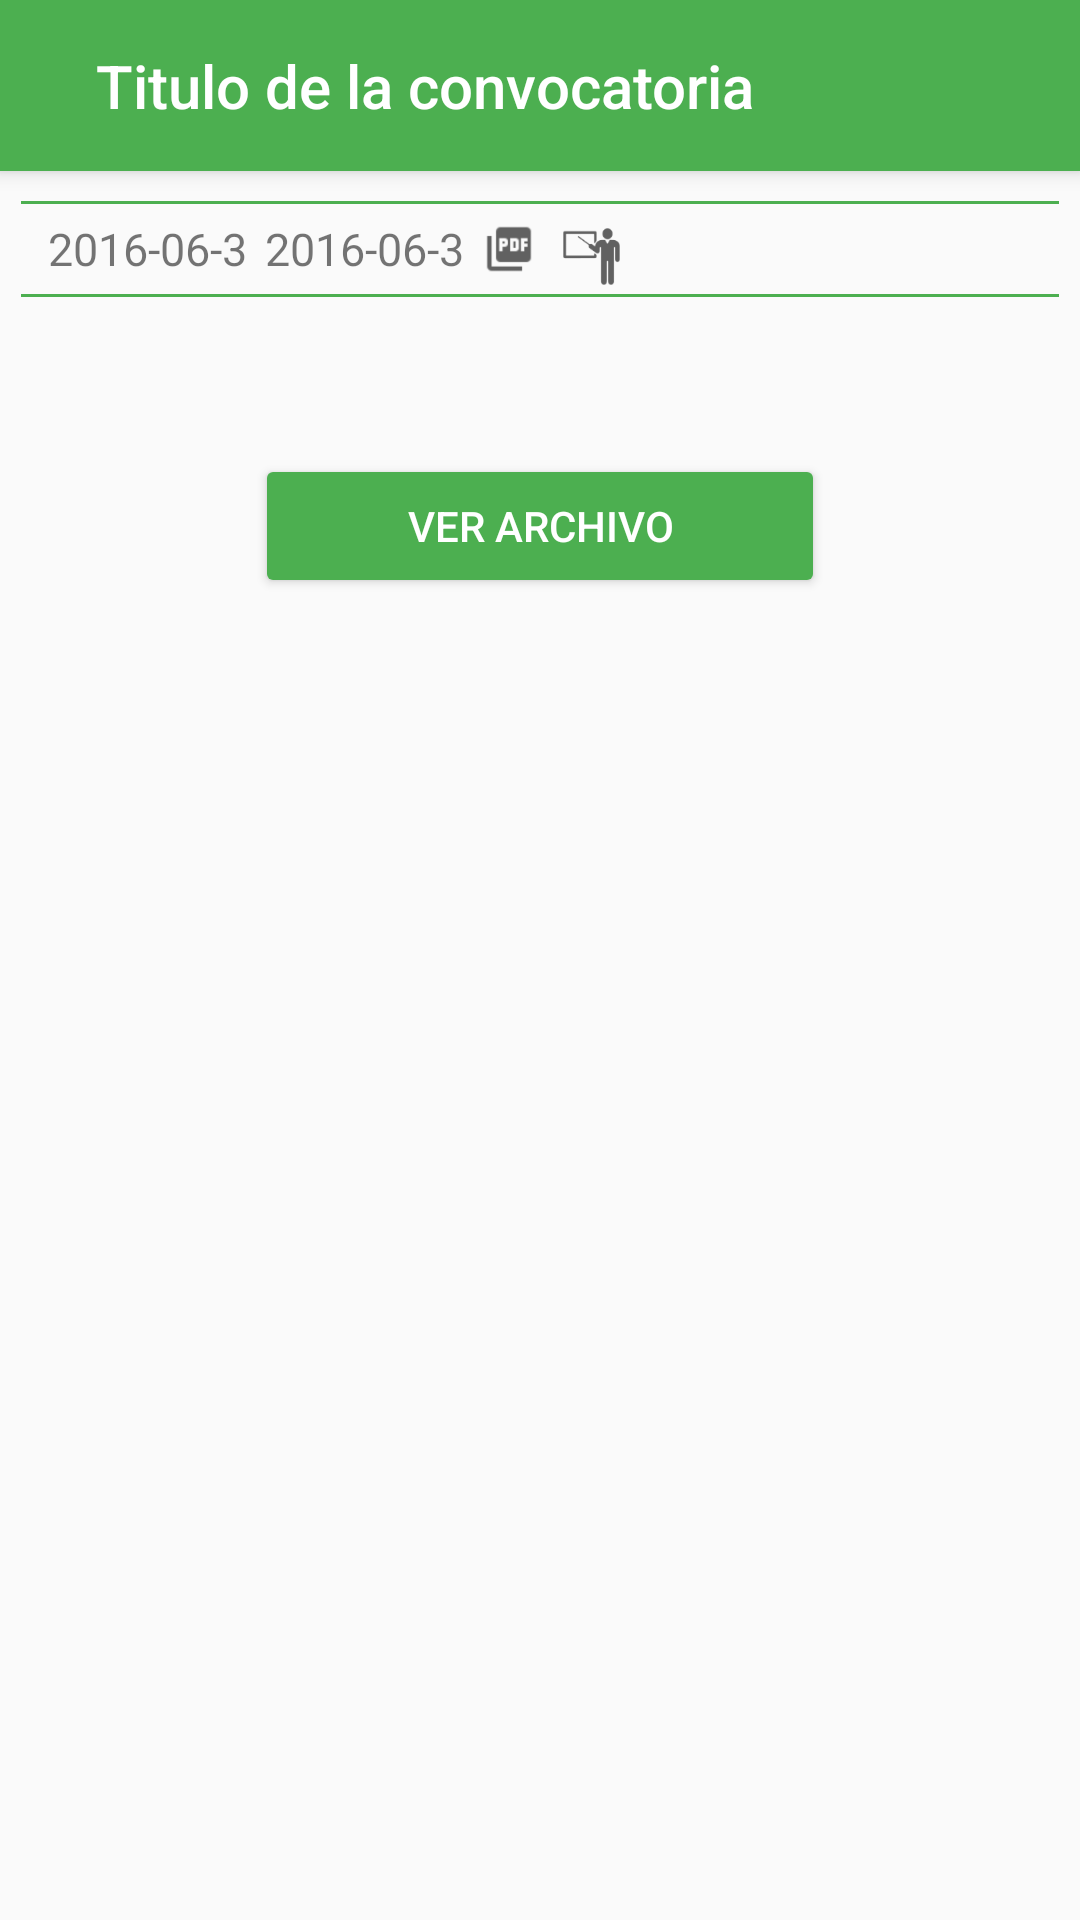

Point at icon controls on the screen. Image size 1080 x 1920, points as (x,y).
maestros: (591,256)
picture as pdf: (509,249)
